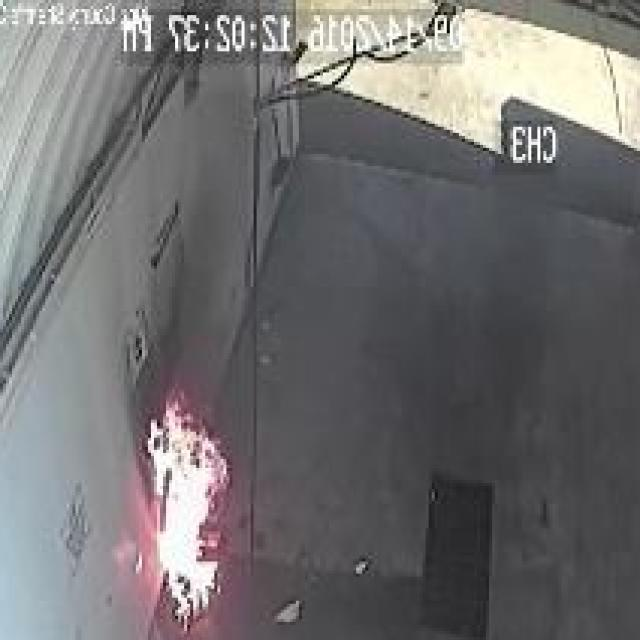fire: (152, 144, 231, 380)
smoke: (140, 376, 234, 630)
